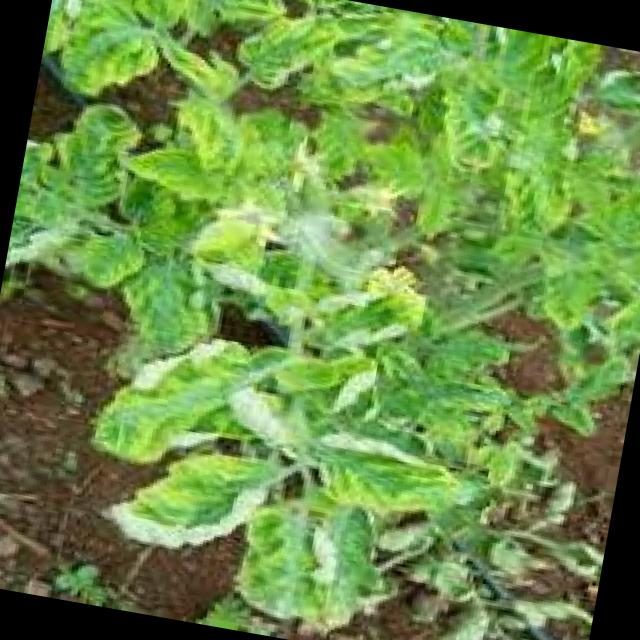Chilli_Leaf_Curl: (0, 0, 640, 640), (62, 214, 563, 640), (98, 428, 288, 566)
